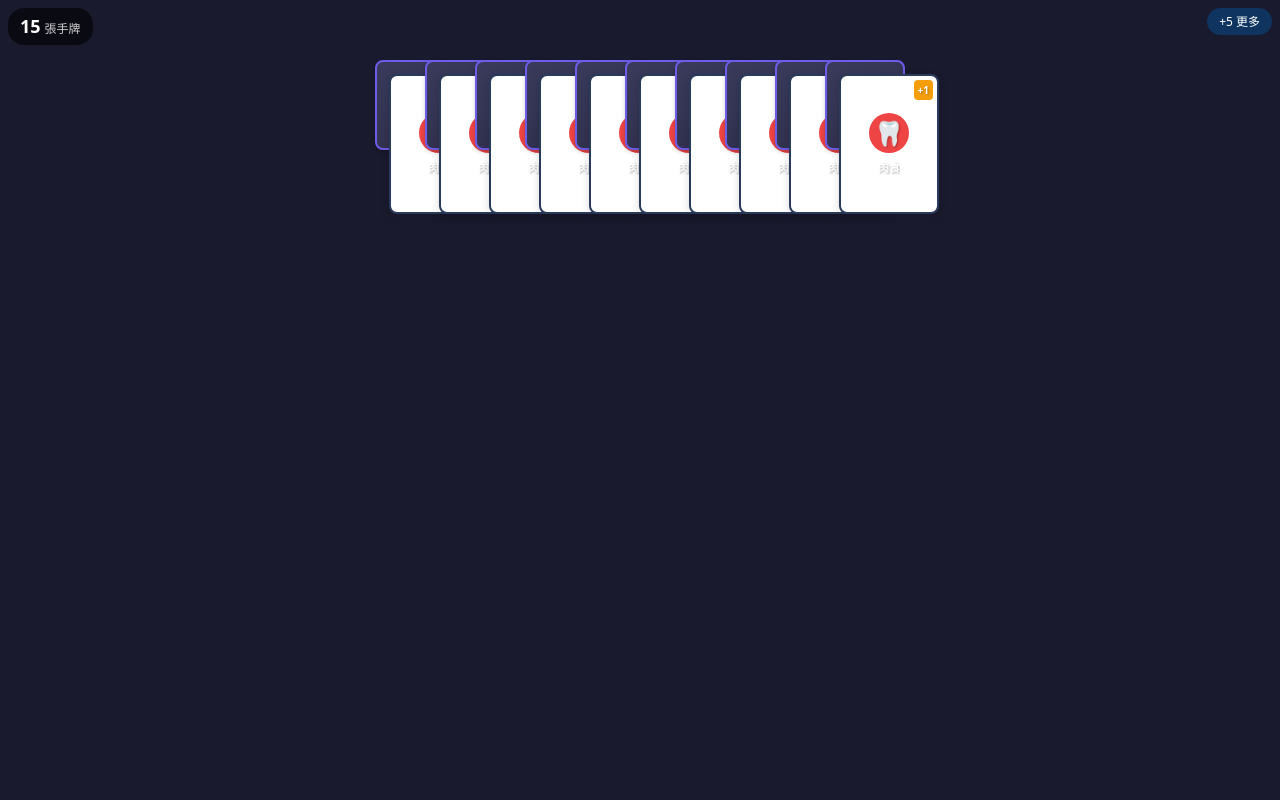
Test: Hand › Expanded View › should open expanded view when expand button clicked
Click the button with test id "expand-button": (1240, 22) x1=1207 y1=8 x2=1272 y2=35
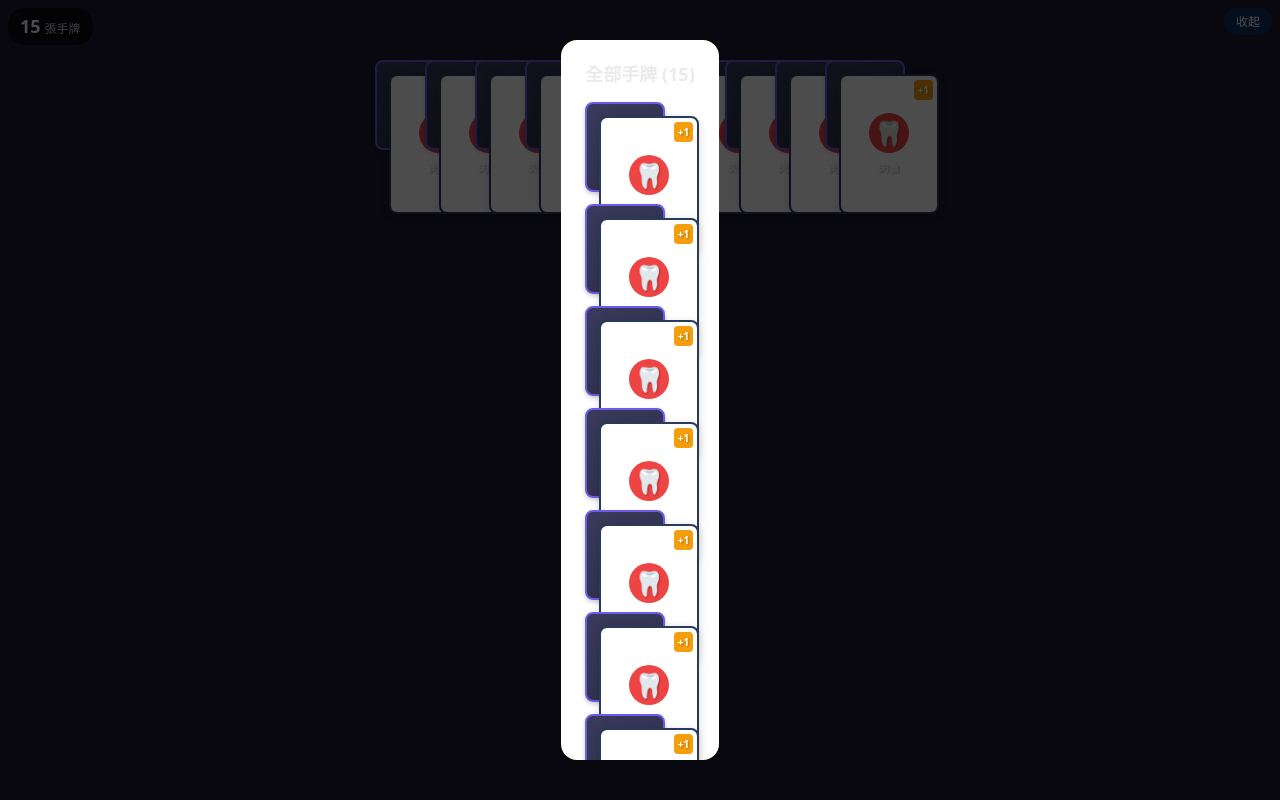
Expected: the element with test id "expanded-overlay" is shown
Expected: the element with test id "expanded-content" is shown, x1=561 y1=40 x2=719 y2=760
